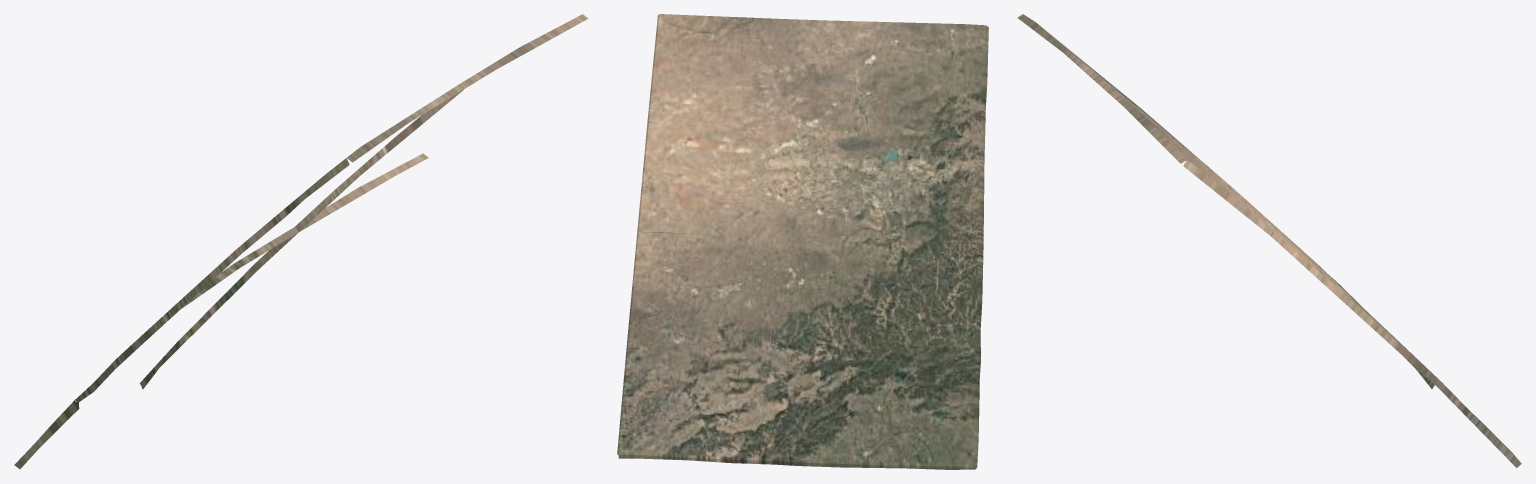
3 views of the same model, side by side, from view 1: azimuth 30°, elevation 25°; view 2: azimuth 150°, elevation 25°; view 3: azimuth 270°, elevation 25° (orthographic). The views are drawn at different scales.
Size of the model in its own units: 605238 by 473632 by 586619.
1 material, 1 textured.
